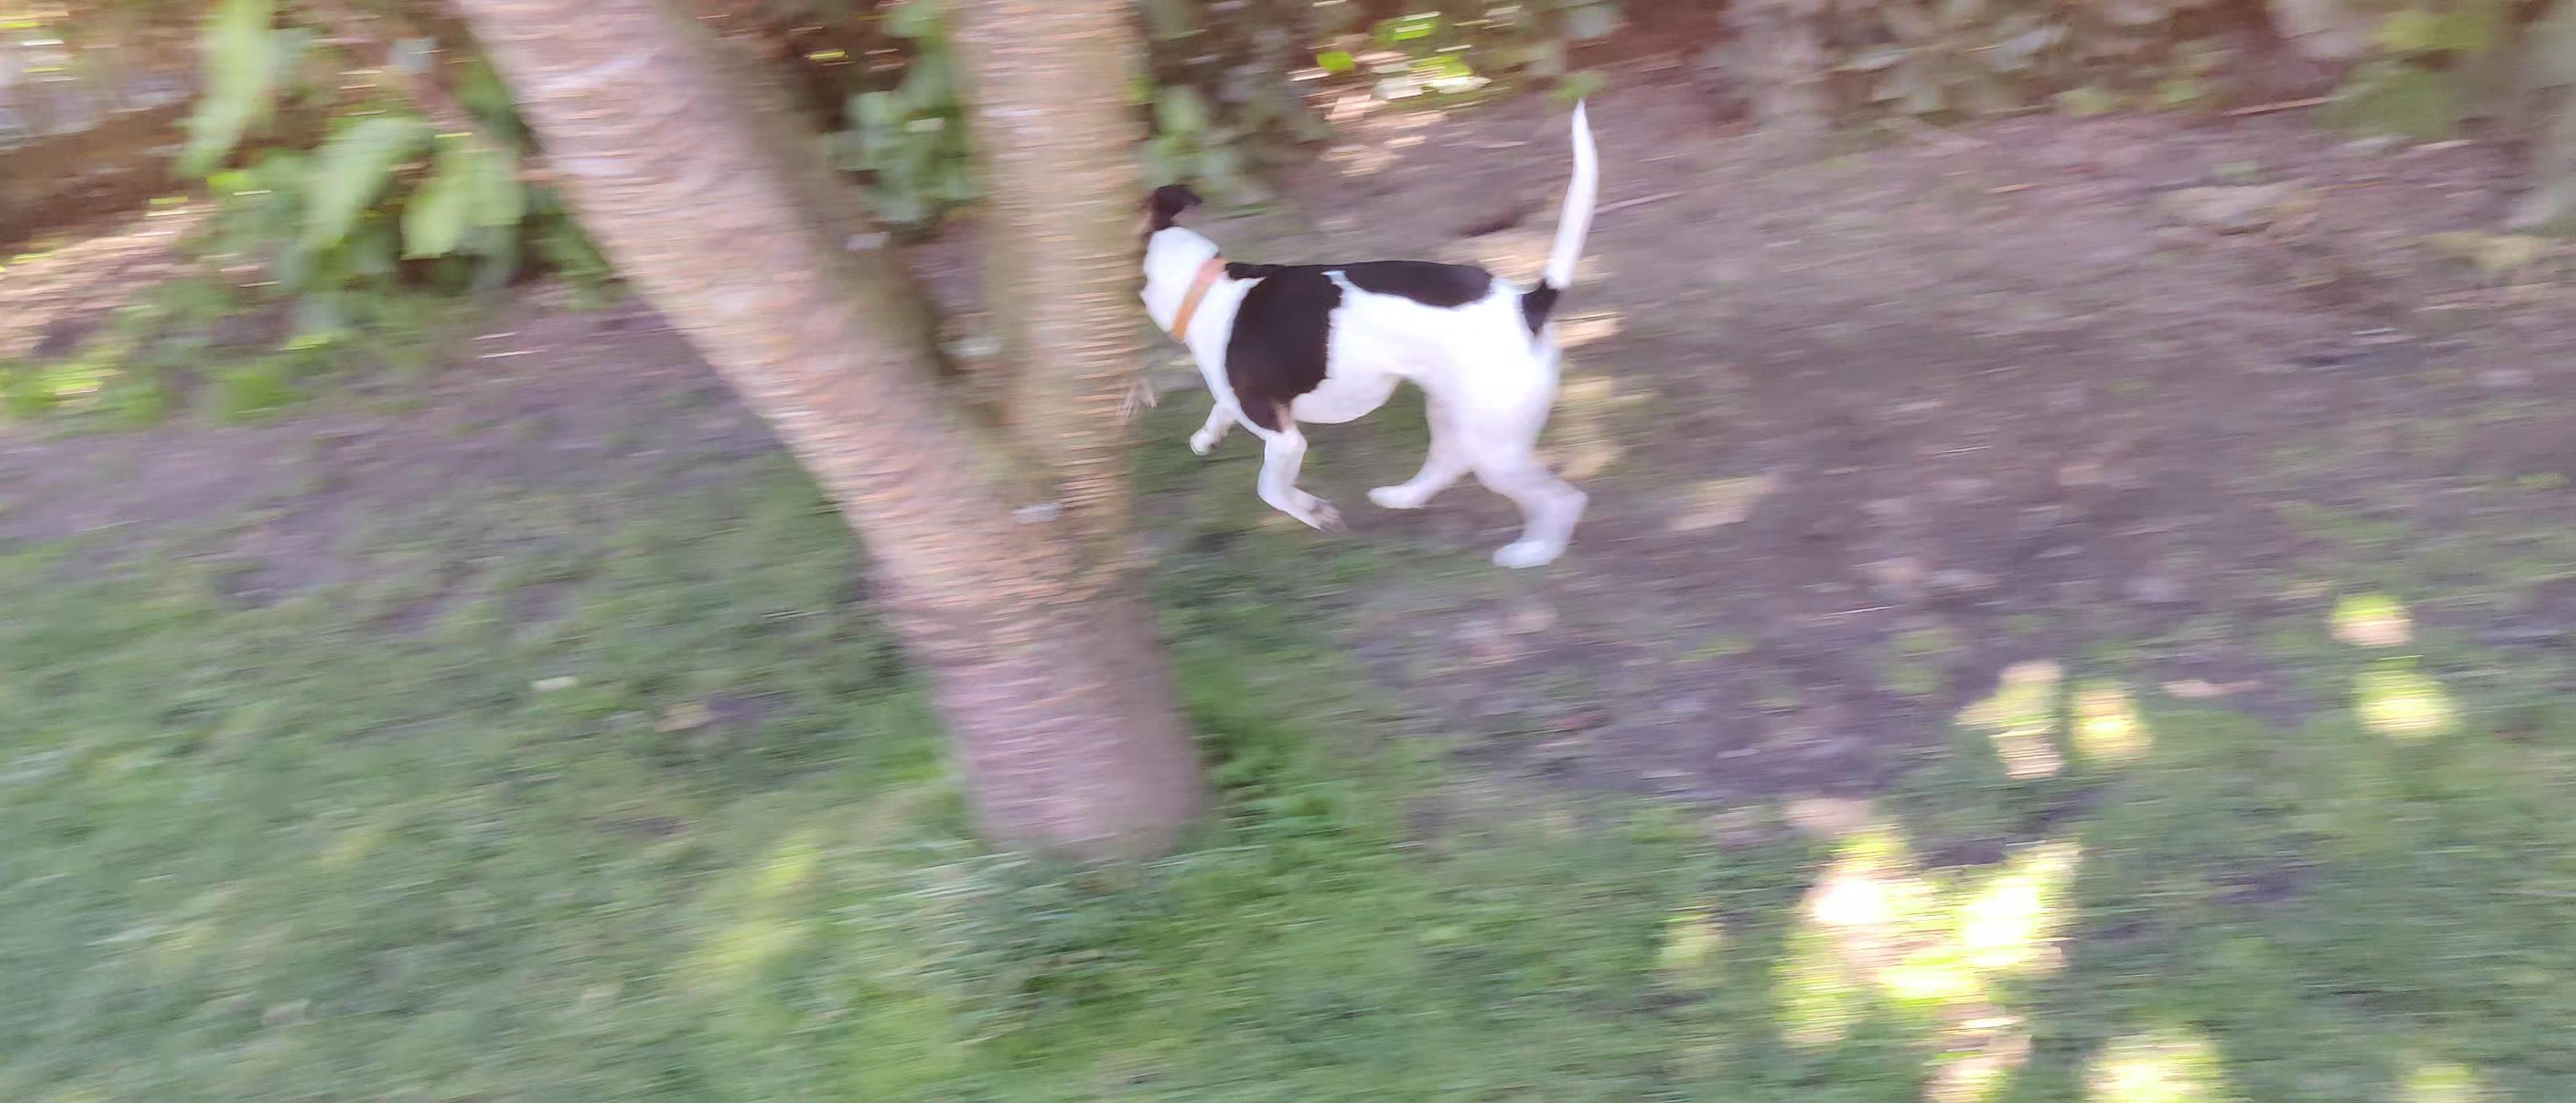Dog: (1122, 69, 1615, 575)
